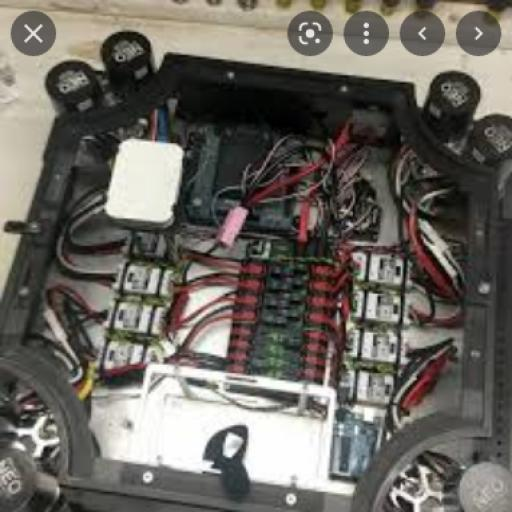robot: (1, 21, 504, 512)
